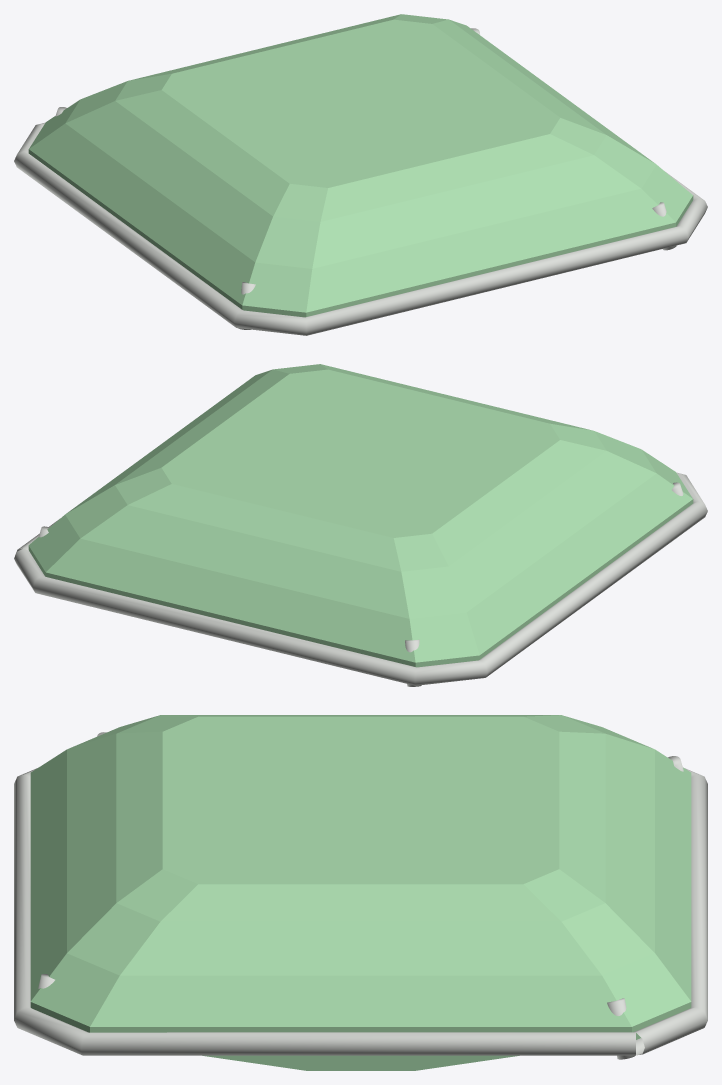
3 views of the same model, one above another, from view 1: azimuth 30°, elevation 25°; view 2: azimuth 150°, elevation 25°; view 3: azimuth 270°, elevation 25° (orthographic). The views are drawn at different scales.
Parts seen in each view (by area): view 1: TI018 / square emerald / chamfered step cut, TI018 / white gold square bezel; view 2: TI018 / square emerald / chamfered step cut, TI018 / white gold square bezel; view 3: TI018 / square emerald / chamfered step cut, TI018 / white gold square bezel.
Boxes of the visible parts, left/top/right/bottom form: TI018 / square emerald / chamfered step cut: left=28, top=14, right=693, bottom=317; TI018 / white gold square bezel: left=14, top=123, right=707, bottom=335; TI018 / square emerald / chamfered step cut: left=28, top=364, right=693, bottom=667; TI018 / white gold square bezel: left=14, top=472, right=707, bottom=685; TI018 / square emerald / chamfered step cut: left=30, top=715, right=691, bottom=1070; TI018 / white gold square bezel: left=14, top=768, right=707, bottom=1055.
Bounding box in the file's own units: 2.1 × 0.81 × 2.1.
